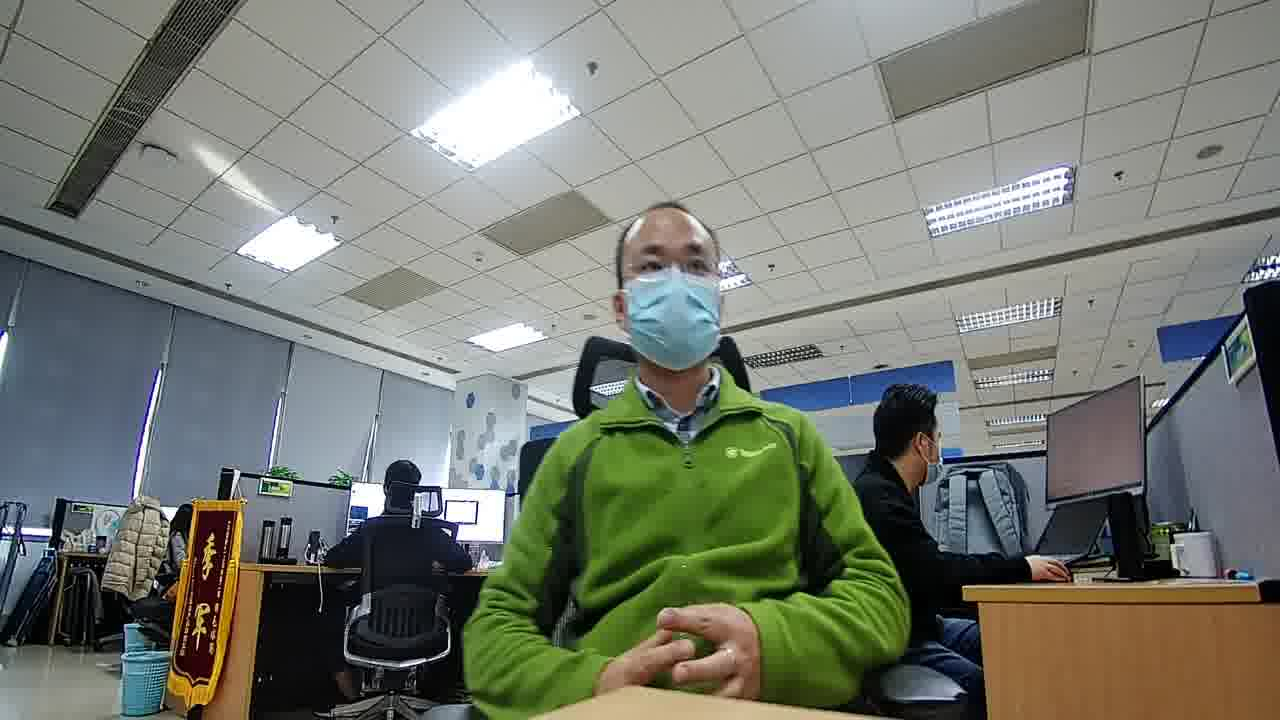face: (622, 219, 723, 369)
mask: (619, 266, 720, 369)
person: (536, 192, 829, 469), (846, 375, 960, 538), (356, 460, 445, 540), (165, 496, 191, 546)
